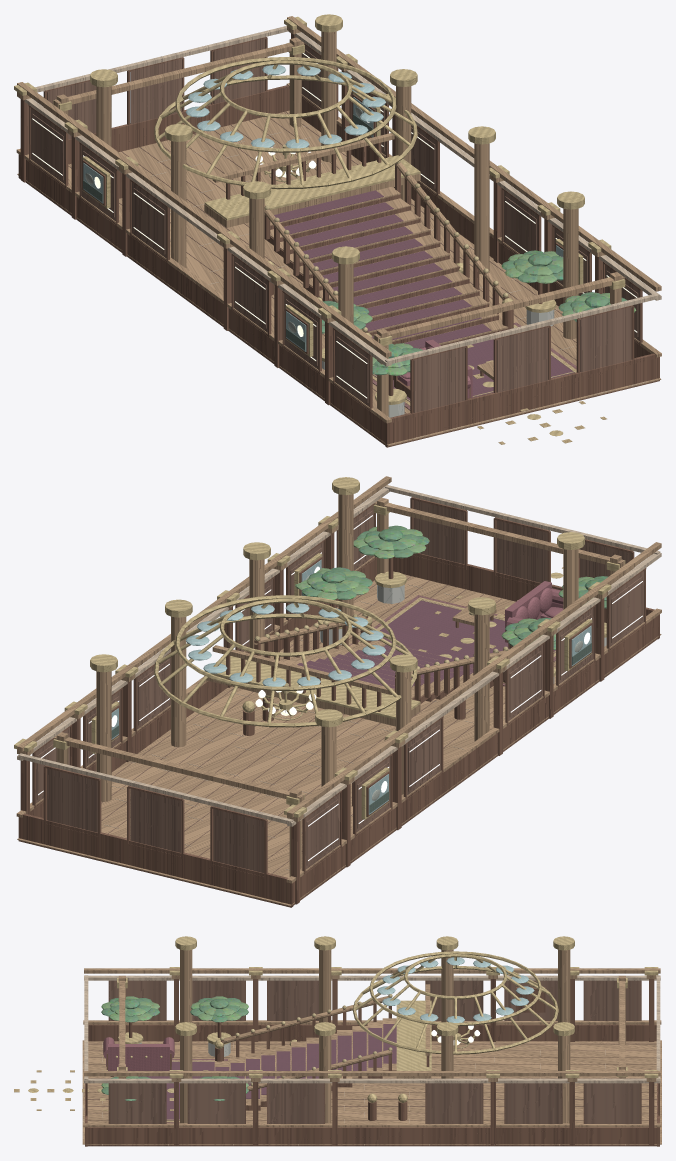
File: staircase.gltf
3 renders of one model, top to bottom at view 1: azimuth 30°, elevation 25°; view 2: azimuth 150°, elevation 25°; view 3: azimuth 270°, elevation 25°, orthographic. The views are drawn at different scales.
Visible parts, largest first — view 1: oak, oakdark, walnut, gold, burgundy, woodlight, sky, plant, leaf, highlight, brass; view 2: oak, oakdark, walnut, gold, woodlight, burgundy, sky, plant, leaf, red, highlight, marble; view 3: oak, walnut, oakdark, gold, woodlight, burgundy, sky, red, plant, leaf, rugtrim.
Boxes of the visible parts, left/top/right/bottom form: oak: left=16, top=16, right=661, bottom=446; oakdark: left=18, top=33, right=659, bottom=447; walnut: left=30, top=38, right=639, bottom=413; gold: left=14, top=14, right=625, bottom=436; burgundy: left=274, top=190, right=574, bottom=401; woodlight: left=17, top=26, right=661, bottom=438; sky: left=83, top=65, right=563, bottom=351; plant: left=322, top=250, right=626, bottom=375; leaf: left=313, top=251, right=636, bottom=375; highlight: left=32, top=53, right=637, bottom=398; brass: left=264, top=144, right=508, bottom=331; oak: left=16, top=476, right=661, bottom=906; oakdark: left=18, top=497, right=659, bottom=907; walnut: left=35, top=500, right=644, bottom=873; gold: left=14, top=477, right=625, bottom=819; woodlight: left=17, top=485, right=661, bottom=870; burgundy: left=297, top=599, right=555, bottom=689; sky: left=111, top=559, right=591, bottom=814; plant: left=301, top=525, right=608, bottom=649; leaf: left=295, top=526, right=594, bottom=647; red: left=505, top=581, right=563, bottom=642; highlight: left=38, top=515, right=642, bottom=860; marble: left=320, top=585, right=606, bottom=683; oak: left=82, top=949, right=661, bottom=1144; walnut: left=87, top=980, right=656, bottom=1123; oakdark: left=85, top=979, right=659, bottom=1146; gold: left=28, top=936, right=658, bottom=1120; woodlight: left=83, top=975, right=660, bottom=1145; burgundy: left=138, top=1024, right=396, bottom=1120; sky: left=377, top=957, right=534, bottom=1022; red: left=103, top=1037, right=174, bottom=1070; plant: left=101, top=998, right=248, bottom=1100; leaf: left=101, top=996, right=248, bottom=1087; rugtrim: left=14, top=1060, right=224, bottom=1122.
Bounding box in the file's own units: 9.28 × 4.74 × 23.32.
Materials: 23 (23 with a texture image).
